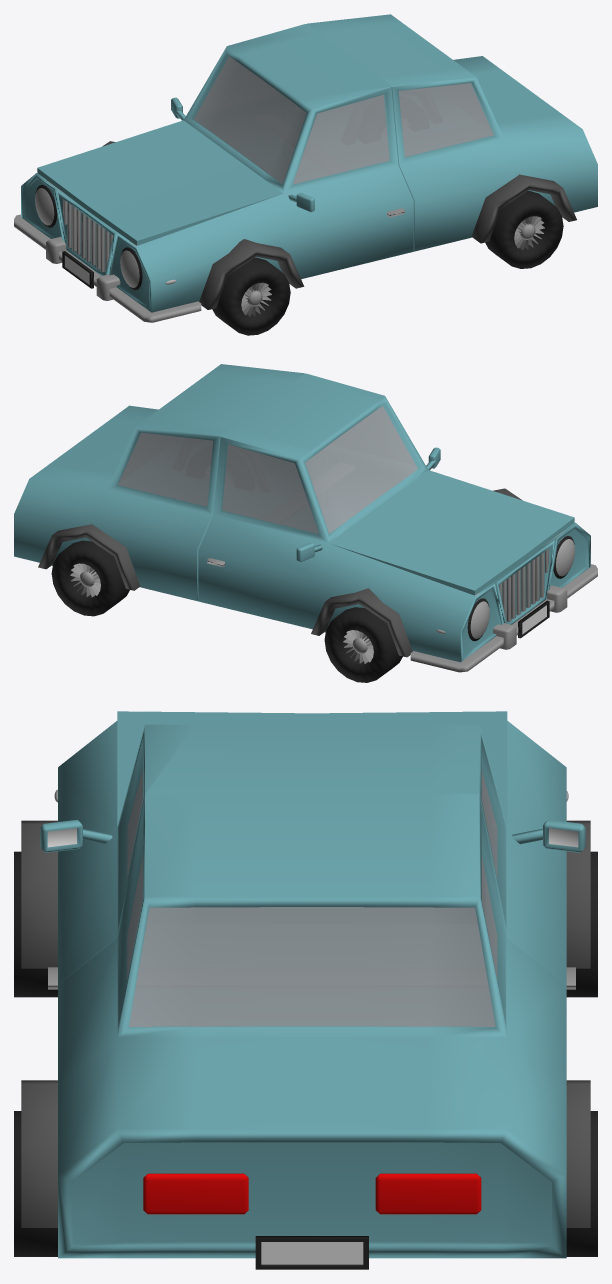
The model's file is Sedan.fbx.
3 views of the same model, one above another, from view 1: azimuth 30°, elevation 25°; view 2: azimuth 150°, elevation 25°; view 3: azimuth 270°, elevation 25° (orthographic). The views are drawn at different scales.
Visible parts, largest first — view 1: Sedan1, carbonnet; view 2: Sedan1, carbonnet; view 3: Sedan1, carbonnet.
Part boxes in pixels (x1,y1,x2,y2): Sedan1: (14, 14, 597, 335); carbonnet: (37, 120, 283, 245); Sedan1: (14, 364, 597, 682); carbonnet: (328, 470, 574, 595); Sedan1: (14, 721, 597, 1269); carbonnet: (117, 711, 507, 826).
Size of the model in its own units: 406 by 154 by 228.
